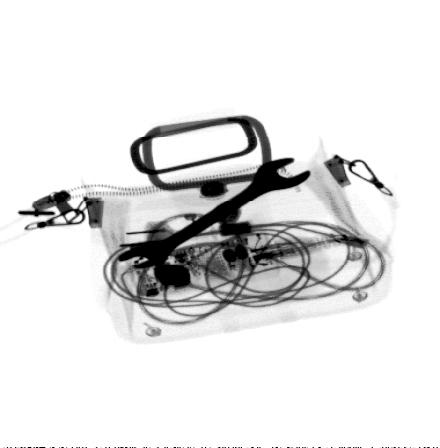Wrench: (114, 154, 313, 272)
